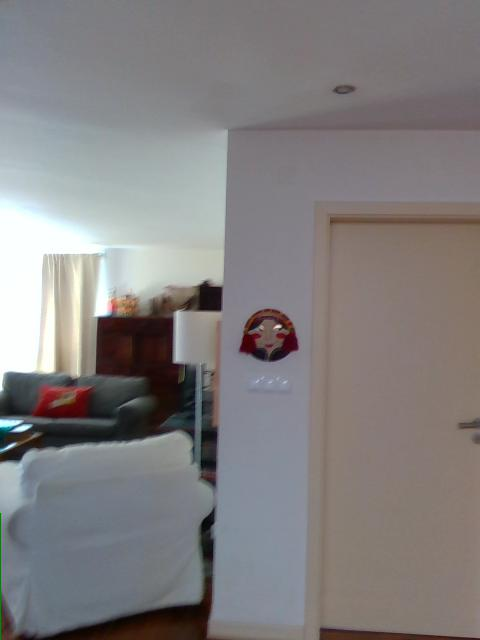door: (302, 197, 479, 639)
